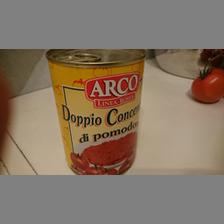tomato_sauce: (45, 49, 145, 174)
